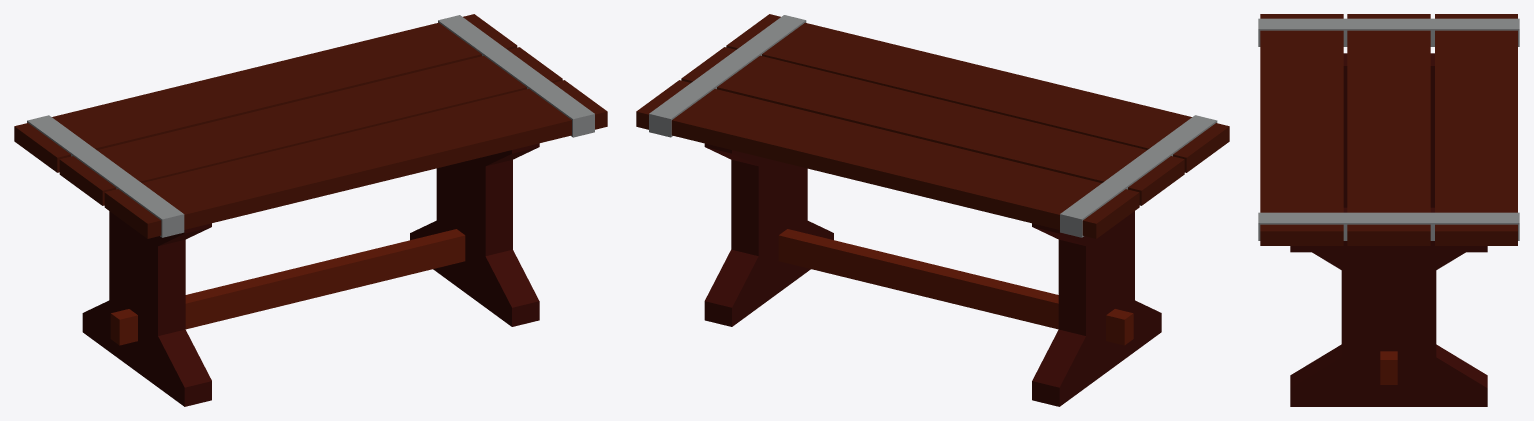
The model's file is Mesa - Madeira.fbx.
3 views of the same model, side by side, from view 1: azimuth 30°, elevation 25°; view 2: azimuth 150°, elevation 25°; view 3: azimuth 270°, elevation 25° (orthographic). The views are drawn at different scales.
Visible parts, largest first — view 1: Mesa; view 2: Mesa; view 3: Mesa.
Boxes of the visible parts, x1,y1,x2,y2 form: Mesa: (14, 14, 607, 406); Mesa: (636, 14, 1229, 406); Mesa: (1258, 14, 1519, 406).
Bounding box in the file's own units: 200 × 86.87 × 102.
